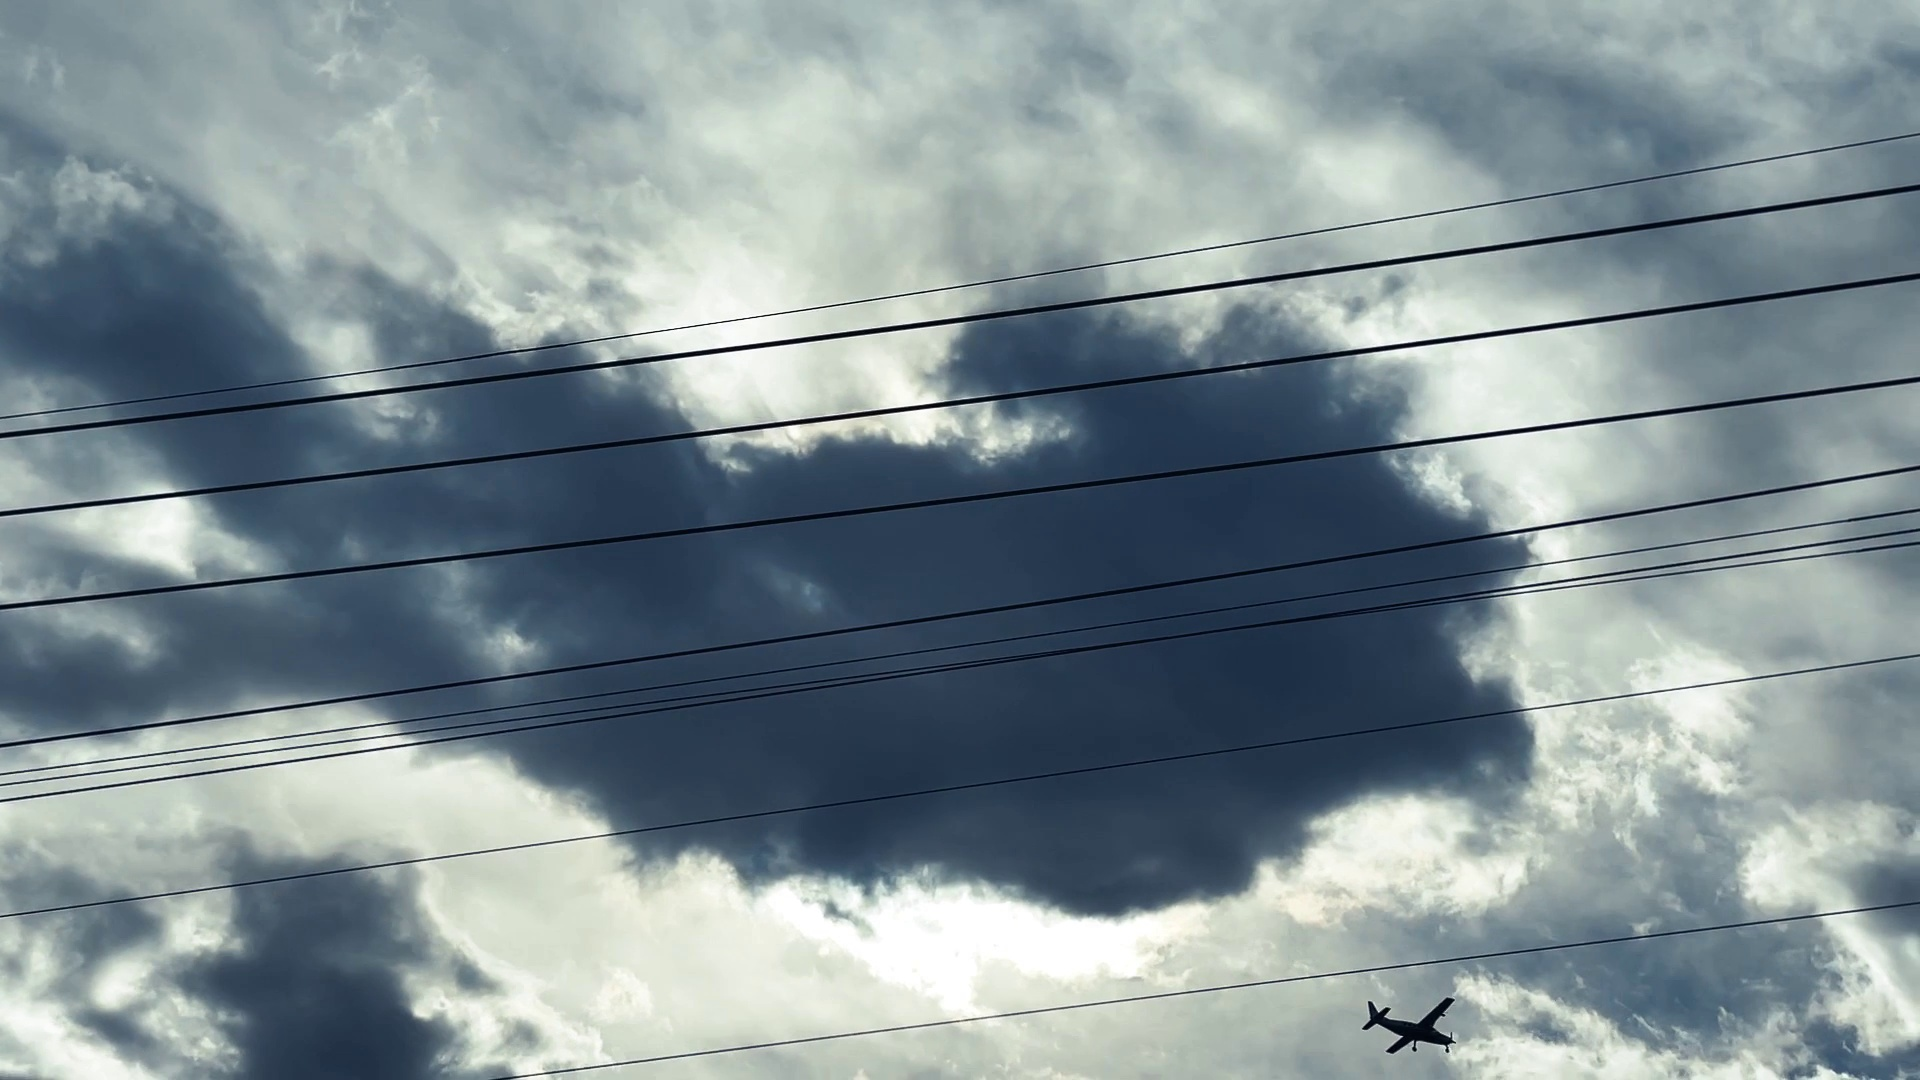plane: (1362, 994, 1458, 1054)
